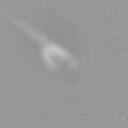normal: (1, 8, 45, 44)
